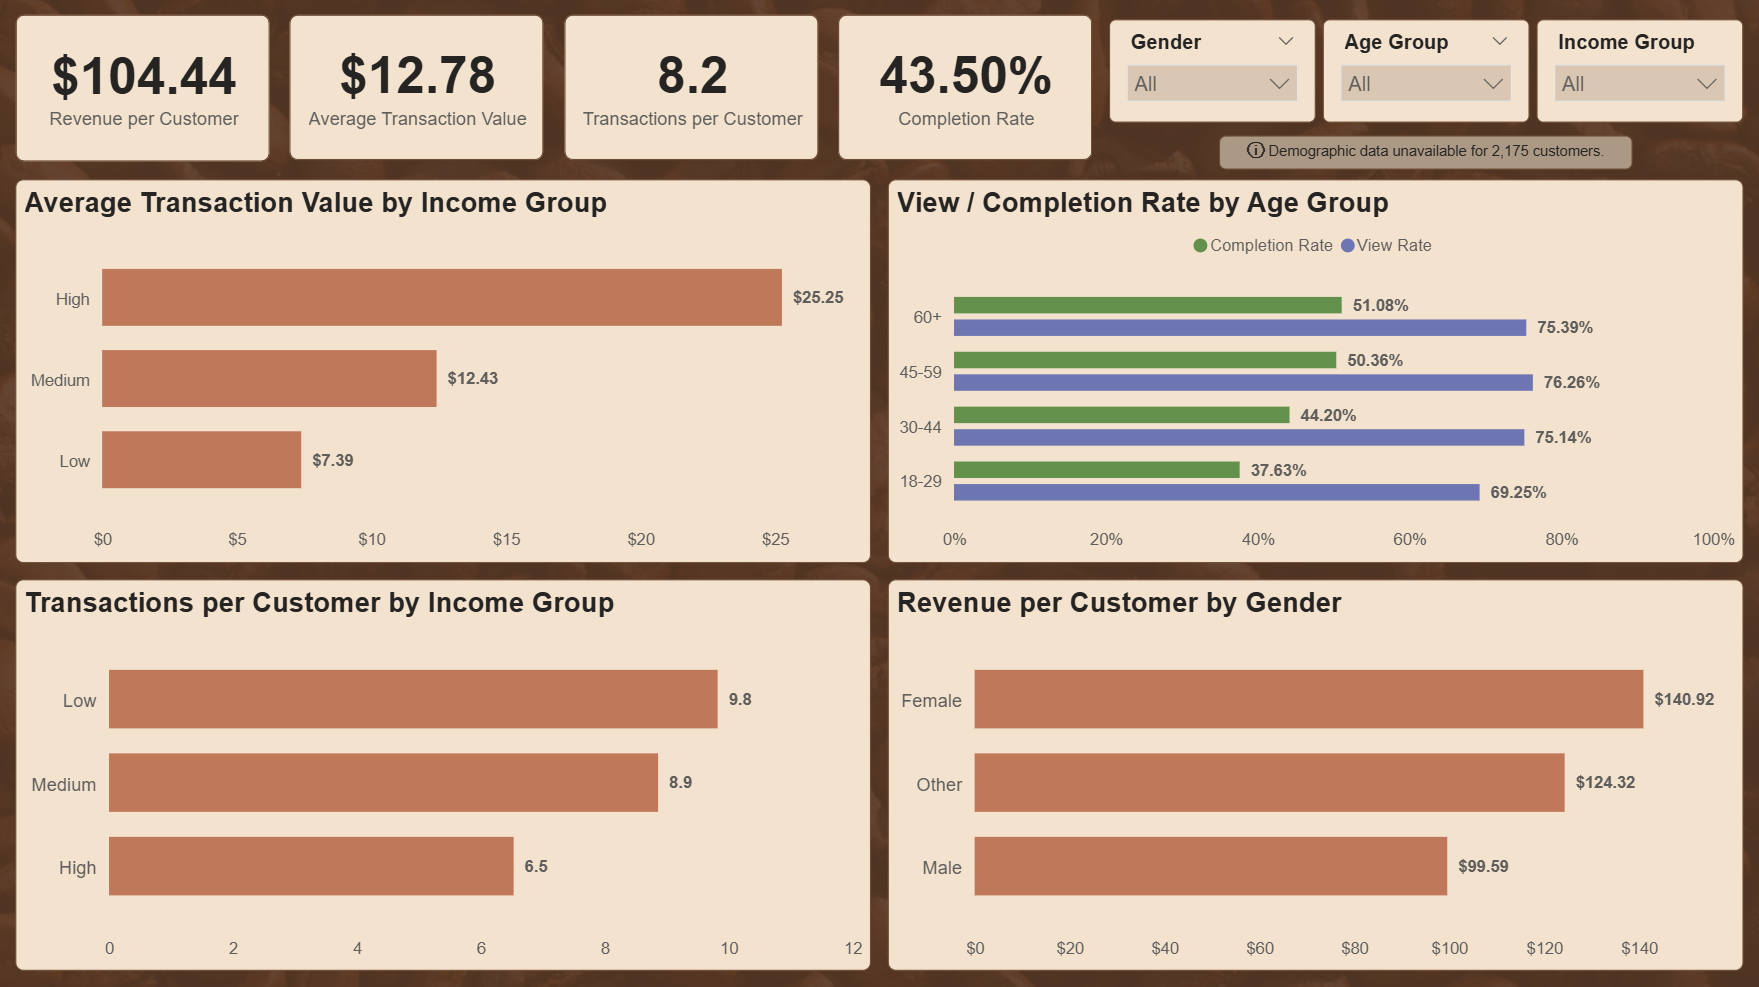

The dashboard page shown, as its layout file describes it:
{"tool":"powerbi","page":{"name":"Customer Segments","canvas":[1280,720],"ordinal":2},"visuals":[{"type":"cardVisual","fields":{"Data":["MeasuresFile.Revenue per Customer"]},"box":[0,0,209,131.8],"z":0},{"type":"cardVisual","fields":{"Data":["MeasuresFile.Average Transaction Value"]},"box":[199.4,0,209,130.9],"z":1000},{"type":"cardVisual","fields":{"Data":["MeasuresFile.Transactions per Customer"]},"box":[398.8,0,209,130.9],"z":2000},{"type":"clusteredBarChart","title":"Average Transaction Value by Income Group","fields":{"Category":["Dim Customers.Income Group"],"Y":["MeasuresFile.Average Transaction Value"]},"box":[12,132,622.7,279],"z":3000},{"type":"clusteredBarChart","title":"View / Completion Rate by Age Group","fields":{"Category":["Dim Customers.Age Group"],"Y":["MeasuresFile.Completion Rate","MeasuresFile.View Rate"]},"box":[646,132,622,279],"z":4000},{"type":"slicer","fields":{"Values":["Dim Customers.Gender Label"]},"box":[807.3,15.5,150,75.5],"z":5000},{"type":"slicer","fields":{"Values":["Dim Customers.Age Group"]},"box":[962.6,15.5,150,75.5],"z":6000},{"type":"cardVisual","fields":{"Data":["MeasuresFile.Completion Rate"]},"box":[598.2,0,209,130.9],"z":7000},{"type":"slicer","fields":{"Values":["Dim Customers.Income Group"]},"box":[1118,15.5,150,75.5],"z":8000},{"type":"clusteredBarChart","title":"Transactions per Customer by Income Group","fields":{"Category":["Dim Customers.Income Group"],"Y":["MeasuresFile.Transactions per Customer"]},"box":[12,423,622,285],"z":9000},{"type":"clusteredBarChart","title":"Revenue per Customer by Gender","fields":{"Category":["Dim Customers.Gender Label"],"Y":["MeasuresFile.Revenue per Customer"]},"box":[646,423,622,285],"z":10000},{"type":"textbox","box":[887.3,100,300.9,24.5],"z":11000}]}

Visuals, with their boxes in screenshot pixels (x1, y1, x2, y2), scaled from the page's 1280x720 canvas onto the 1759x987 screenshot:
cardVisual - MeasuresFile.Revenue per Customer: region(0, 0, 287, 181)
cardVisual - MeasuresFile.Average Transaction Value: region(274, 0, 561, 179)
cardVisual - MeasuresFile.Transactions per Customer: region(548, 0, 835, 179)
"Average Transaction Value by Income Group" clusteredBarChart: region(16, 181, 872, 563)
"View / Completion Rate by Age Group" clusteredBarChart: region(888, 181, 1743, 563)
slicer - Dim Customers.Gender Label: region(1109, 21, 1316, 125)
slicer - Dim Customers.Age Group: region(1323, 21, 1529, 125)
cardVisual - MeasuresFile.Completion Rate: region(822, 0, 1109, 179)
slicer - Dim Customers.Income Group: region(1536, 21, 1743, 125)
"Transactions per Customer by Income Group" clusteredBarChart: region(16, 580, 871, 971)
"Revenue per Customer by Gender" clusteredBarChart: region(888, 580, 1743, 971)
textbox: region(1219, 137, 1633, 171)
